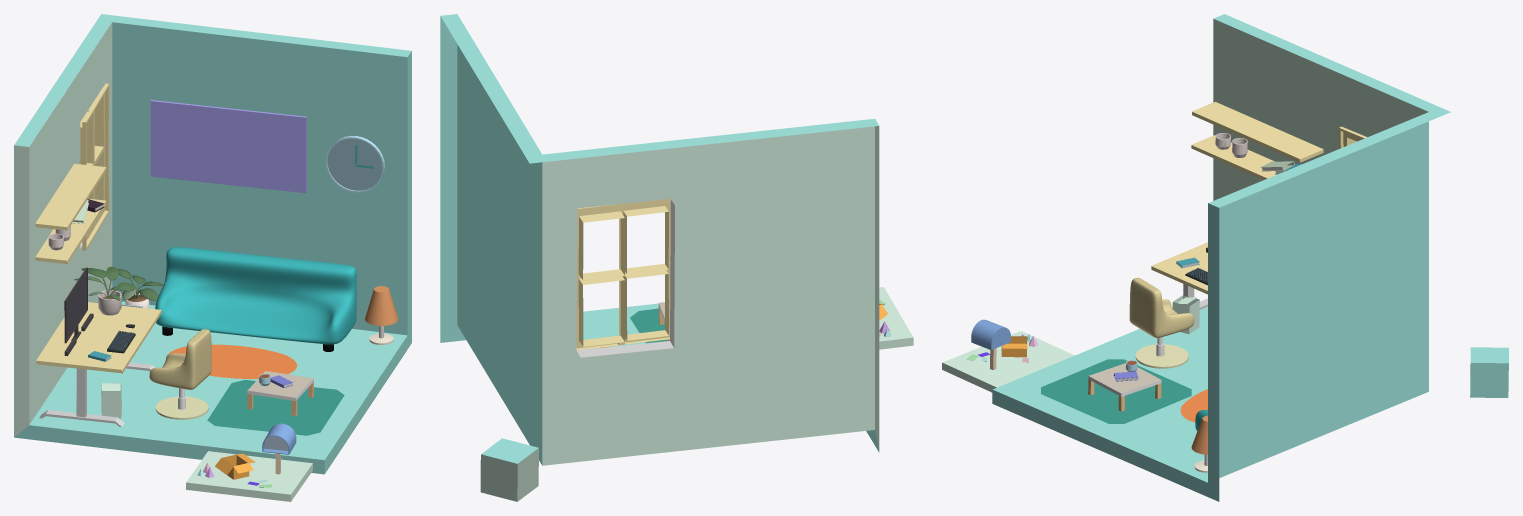
File: finalroomV7.glb
3 views of the same model, side by side, from view 1: azimuth 30°, elevation 25°; view 2: azimuth 150°, elevation 25°; view 3: azimuth 270°, elevation 25° (orthographic). The views are drawn at different scales.
Visible parts, largest first — view 1: body, sofa, selves, flooritems, Desks, minifloor, clock, chair, tabletops, Computer, mailbox, letters; view 2: body, Cube.001, minifloor, flooritems; view 3: body, flooritems, selves, minifloor, sofa, chair, Cube.001, Desks, mailbox, letters.
Boxes of the visible parts, x1=… form: body: x1=14, y1=14, x2=411, y2=474; sofa: x1=110, y1=247, x2=398, y2=416; selves: x1=35, y1=100, x2=306, y2=263; flooritems: x1=101, y1=344, x2=344, y2=435; Desks: x1=36, y1=302, x2=161, y2=426; minifloor: x1=186, y1=451, x2=312, y2=501; clock: x1=325, y1=135, x2=384, y2=192; chair: x1=149, y1=329, x2=211, y2=389; tabletops: x1=64, y1=266, x2=135, y2=361; Computer: x1=64, y1=267, x2=87, y2=343; mailbox: x1=262, y1=423, x2=296, y2=474; letters: x1=215, y1=453, x2=272, y2=487; body: x1=440, y1=14, x2=879, y2=465; Cube.001: x1=480, y1=438, x2=538, y2=501; minifloor: x1=879, y1=287, x2=913, y2=349; flooritems: x1=598, y1=308, x2=667, y2=348; body: x1=992, y1=14, x2=1450, y2=501; flooritems: x1=1041, y1=295, x2=1207, y2=423; selves: x1=1191, y1=102, x2=1323, y2=179; minifloor: x1=942, y1=331, x2=1074, y2=392; sofa: x1=1088, y1=360, x2=1207, y2=472; chair: x1=1129, y1=278, x2=1194, y2=337; Cube.001: x1=1470, y1=347, x2=1508, y2=397; Desks: x1=1151, y1=242, x2=1207, y2=309; mailbox: x1=971, y1=319, x2=1010, y2=370; letters: x1=966, y1=336, x2=1028, y2=362.
Size of the model in its own units: 10.59 by 7.49 by 13.08.
